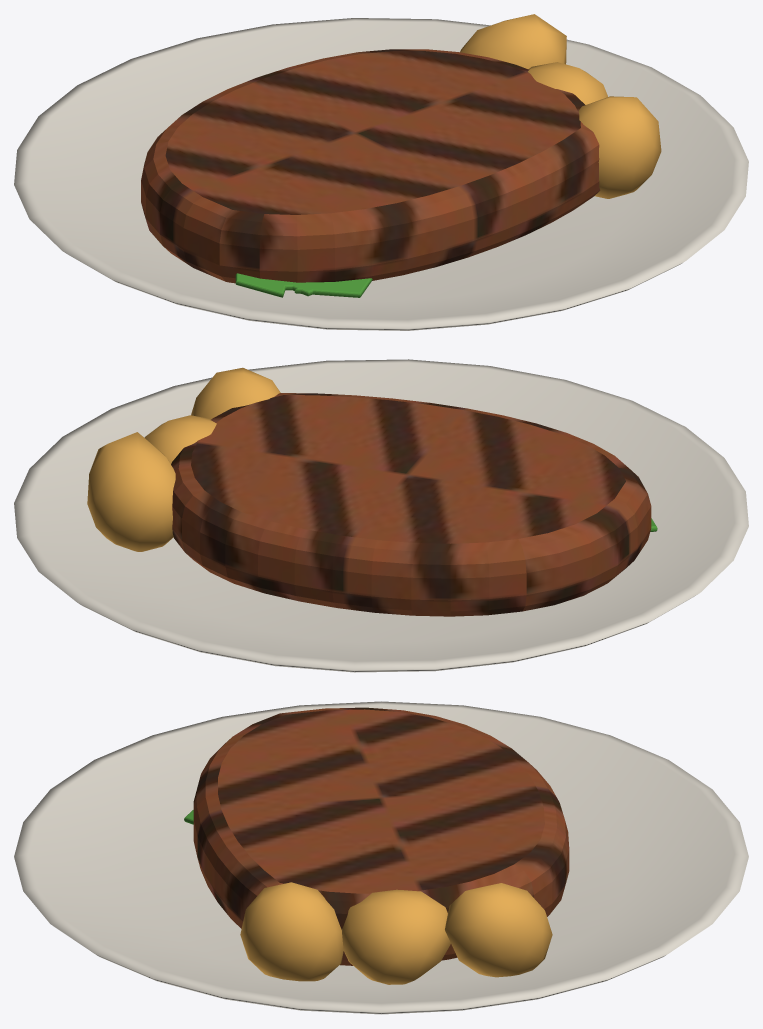
Rendered from steak.glb.
The picture shows the model from 3 angles, top to bottom: view 1: azimuth 30°, elevation 25°; view 2: azimuth 150°, elevation 25°; view 3: azimuth 270°, elevation 25°; orthographic projection.
Visible parts, largest first — view 1: steak; view 2: steak; view 3: steak.
Boxes of the visible parts, x1=… form: steak: x1=14, y1=14, x2=748, y2=330; steak: x1=14, y1=359, x2=748, y2=672; steak: x1=14, y1=701, x2=748, y2=1014.
Size of the model in its own units: 0.2448 by 0.0436 by 0.2448.
Materials: 4 (1 with a texture image).
